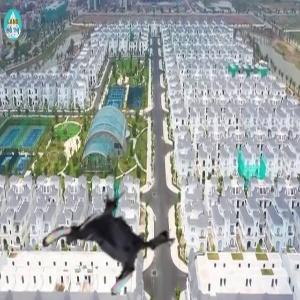drone: (52, 183, 170, 300)
